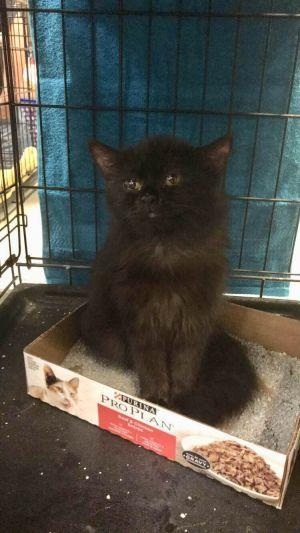persian: (81, 123, 247, 247)
